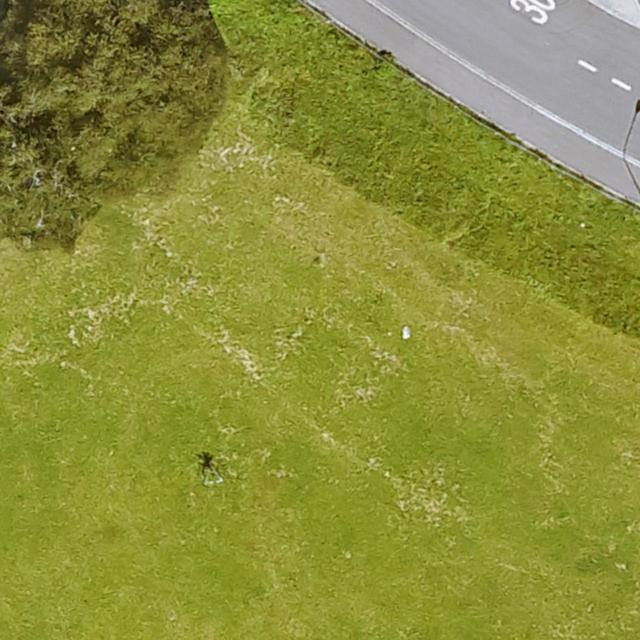tree: (0, 0, 208, 239)
